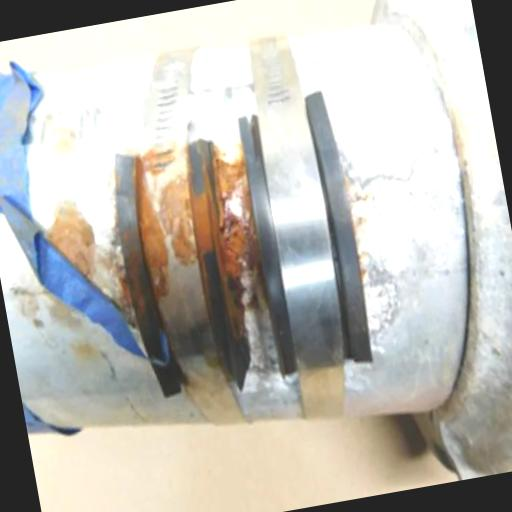segmentation: (157, 138, 246, 379), (198, 138, 273, 341), (35, 194, 116, 285), (128, 156, 175, 300)
